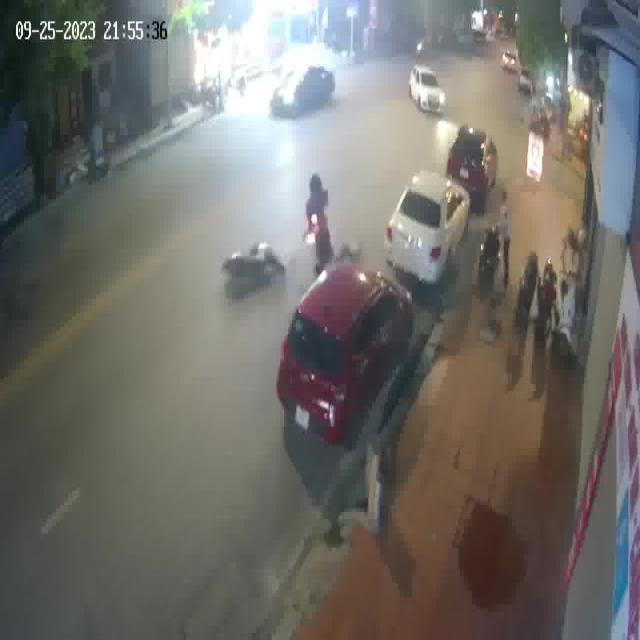multiple_accident: (219, 167, 365, 302)
normal: (260, 41, 349, 124), (389, 41, 457, 121)
